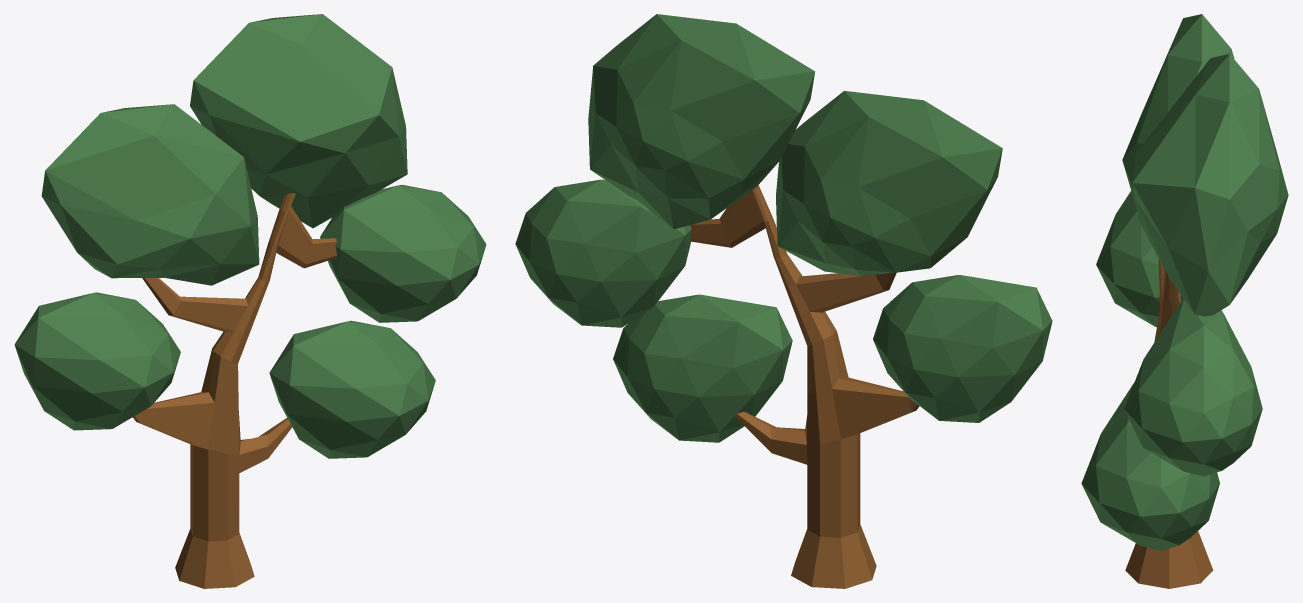
File: LargeTree1.fbx
3 renders of one model, left to right at view 1: azimuth 30°, elevation 25°; view 2: azimuth 150°, elevation 25°; view 3: azimuth 270°, elevation 25°, orthographic. The views are drawn at different scales.
Parts seen in each view (by area): view 1: Cylinder.002; view 2: Cylinder.002; view 3: Cylinder.002.
Boxes of the visible parts, x1,y1,x2,y2 form: Cylinder.002: (14,14,486,588); Cylinder.002: (515,14,1052,588); Cylinder.002: (1081,14,1288,588).
Bounding box in the file's own units: 560 × 579 × 198.
